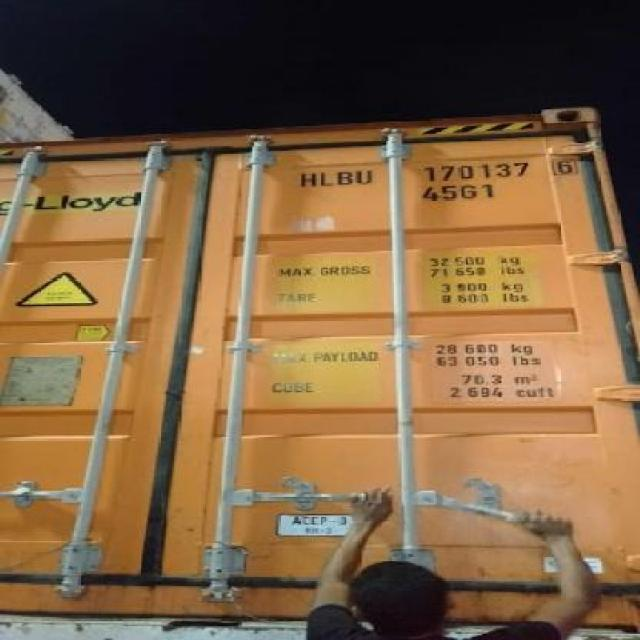ISO: (412, 178, 514, 202)
container_number: (290, 152, 578, 186)
